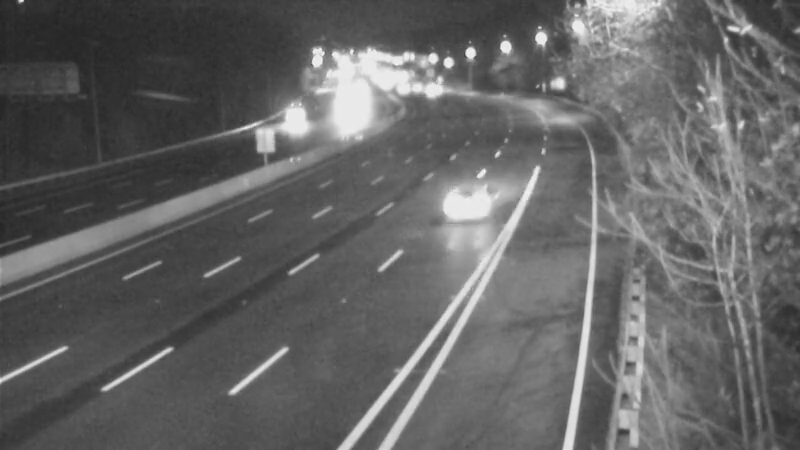vehicle: (442, 158, 522, 238), (257, 98, 307, 148)
